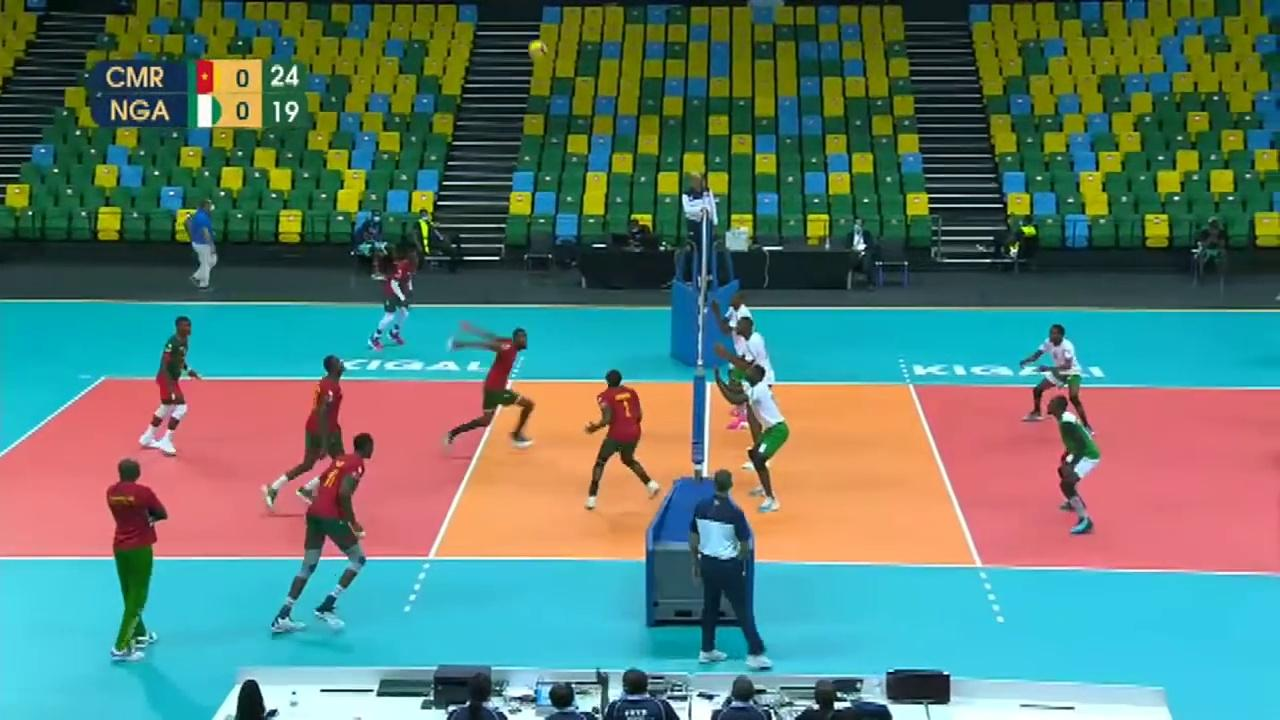player: (280, 429, 374, 648), (266, 356, 346, 514), (576, 369, 662, 509), (444, 327, 537, 448), (721, 366, 791, 516), (1035, 396, 1100, 537), (141, 317, 200, 453), (725, 319, 777, 469), (1017, 326, 1087, 425), (716, 289, 759, 429), (366, 249, 419, 349)
refree: (690, 473, 771, 662), (679, 173, 720, 274)
